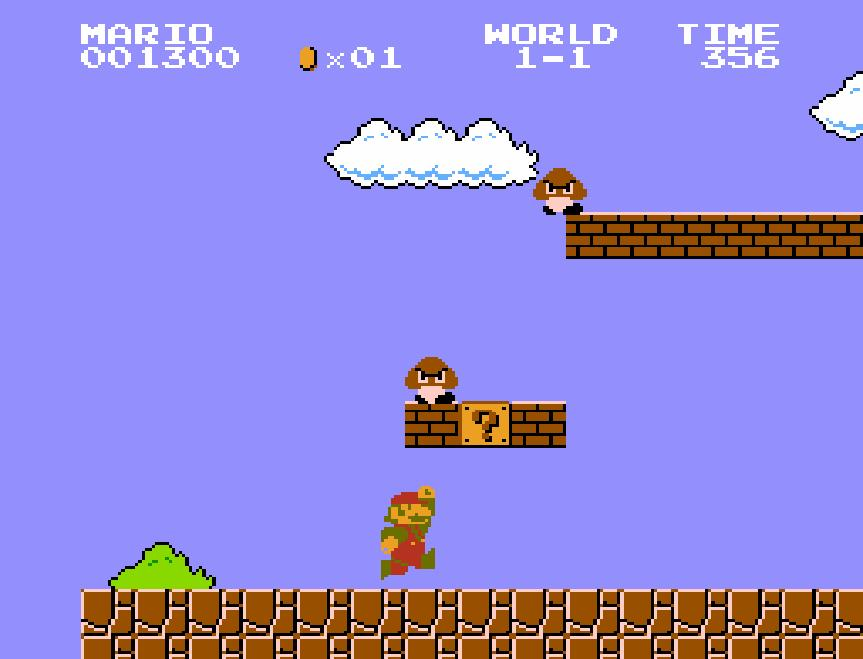big_mario: (379, 484, 437, 582)
